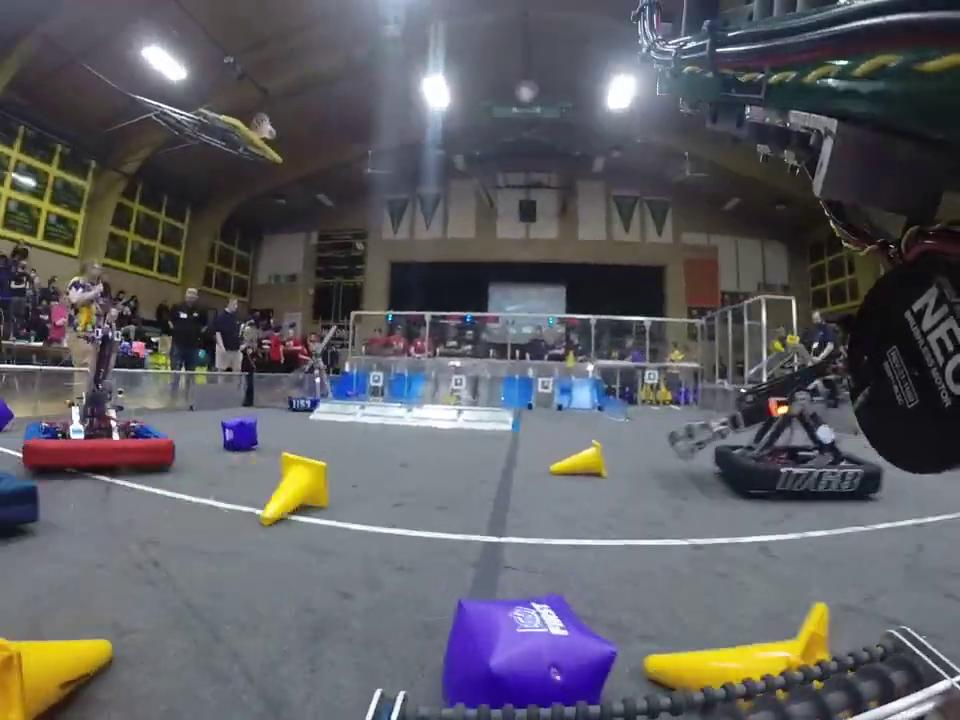robot: (664, 325, 884, 502), (21, 295, 167, 462), (287, 321, 345, 415), (0, 470, 41, 532)
